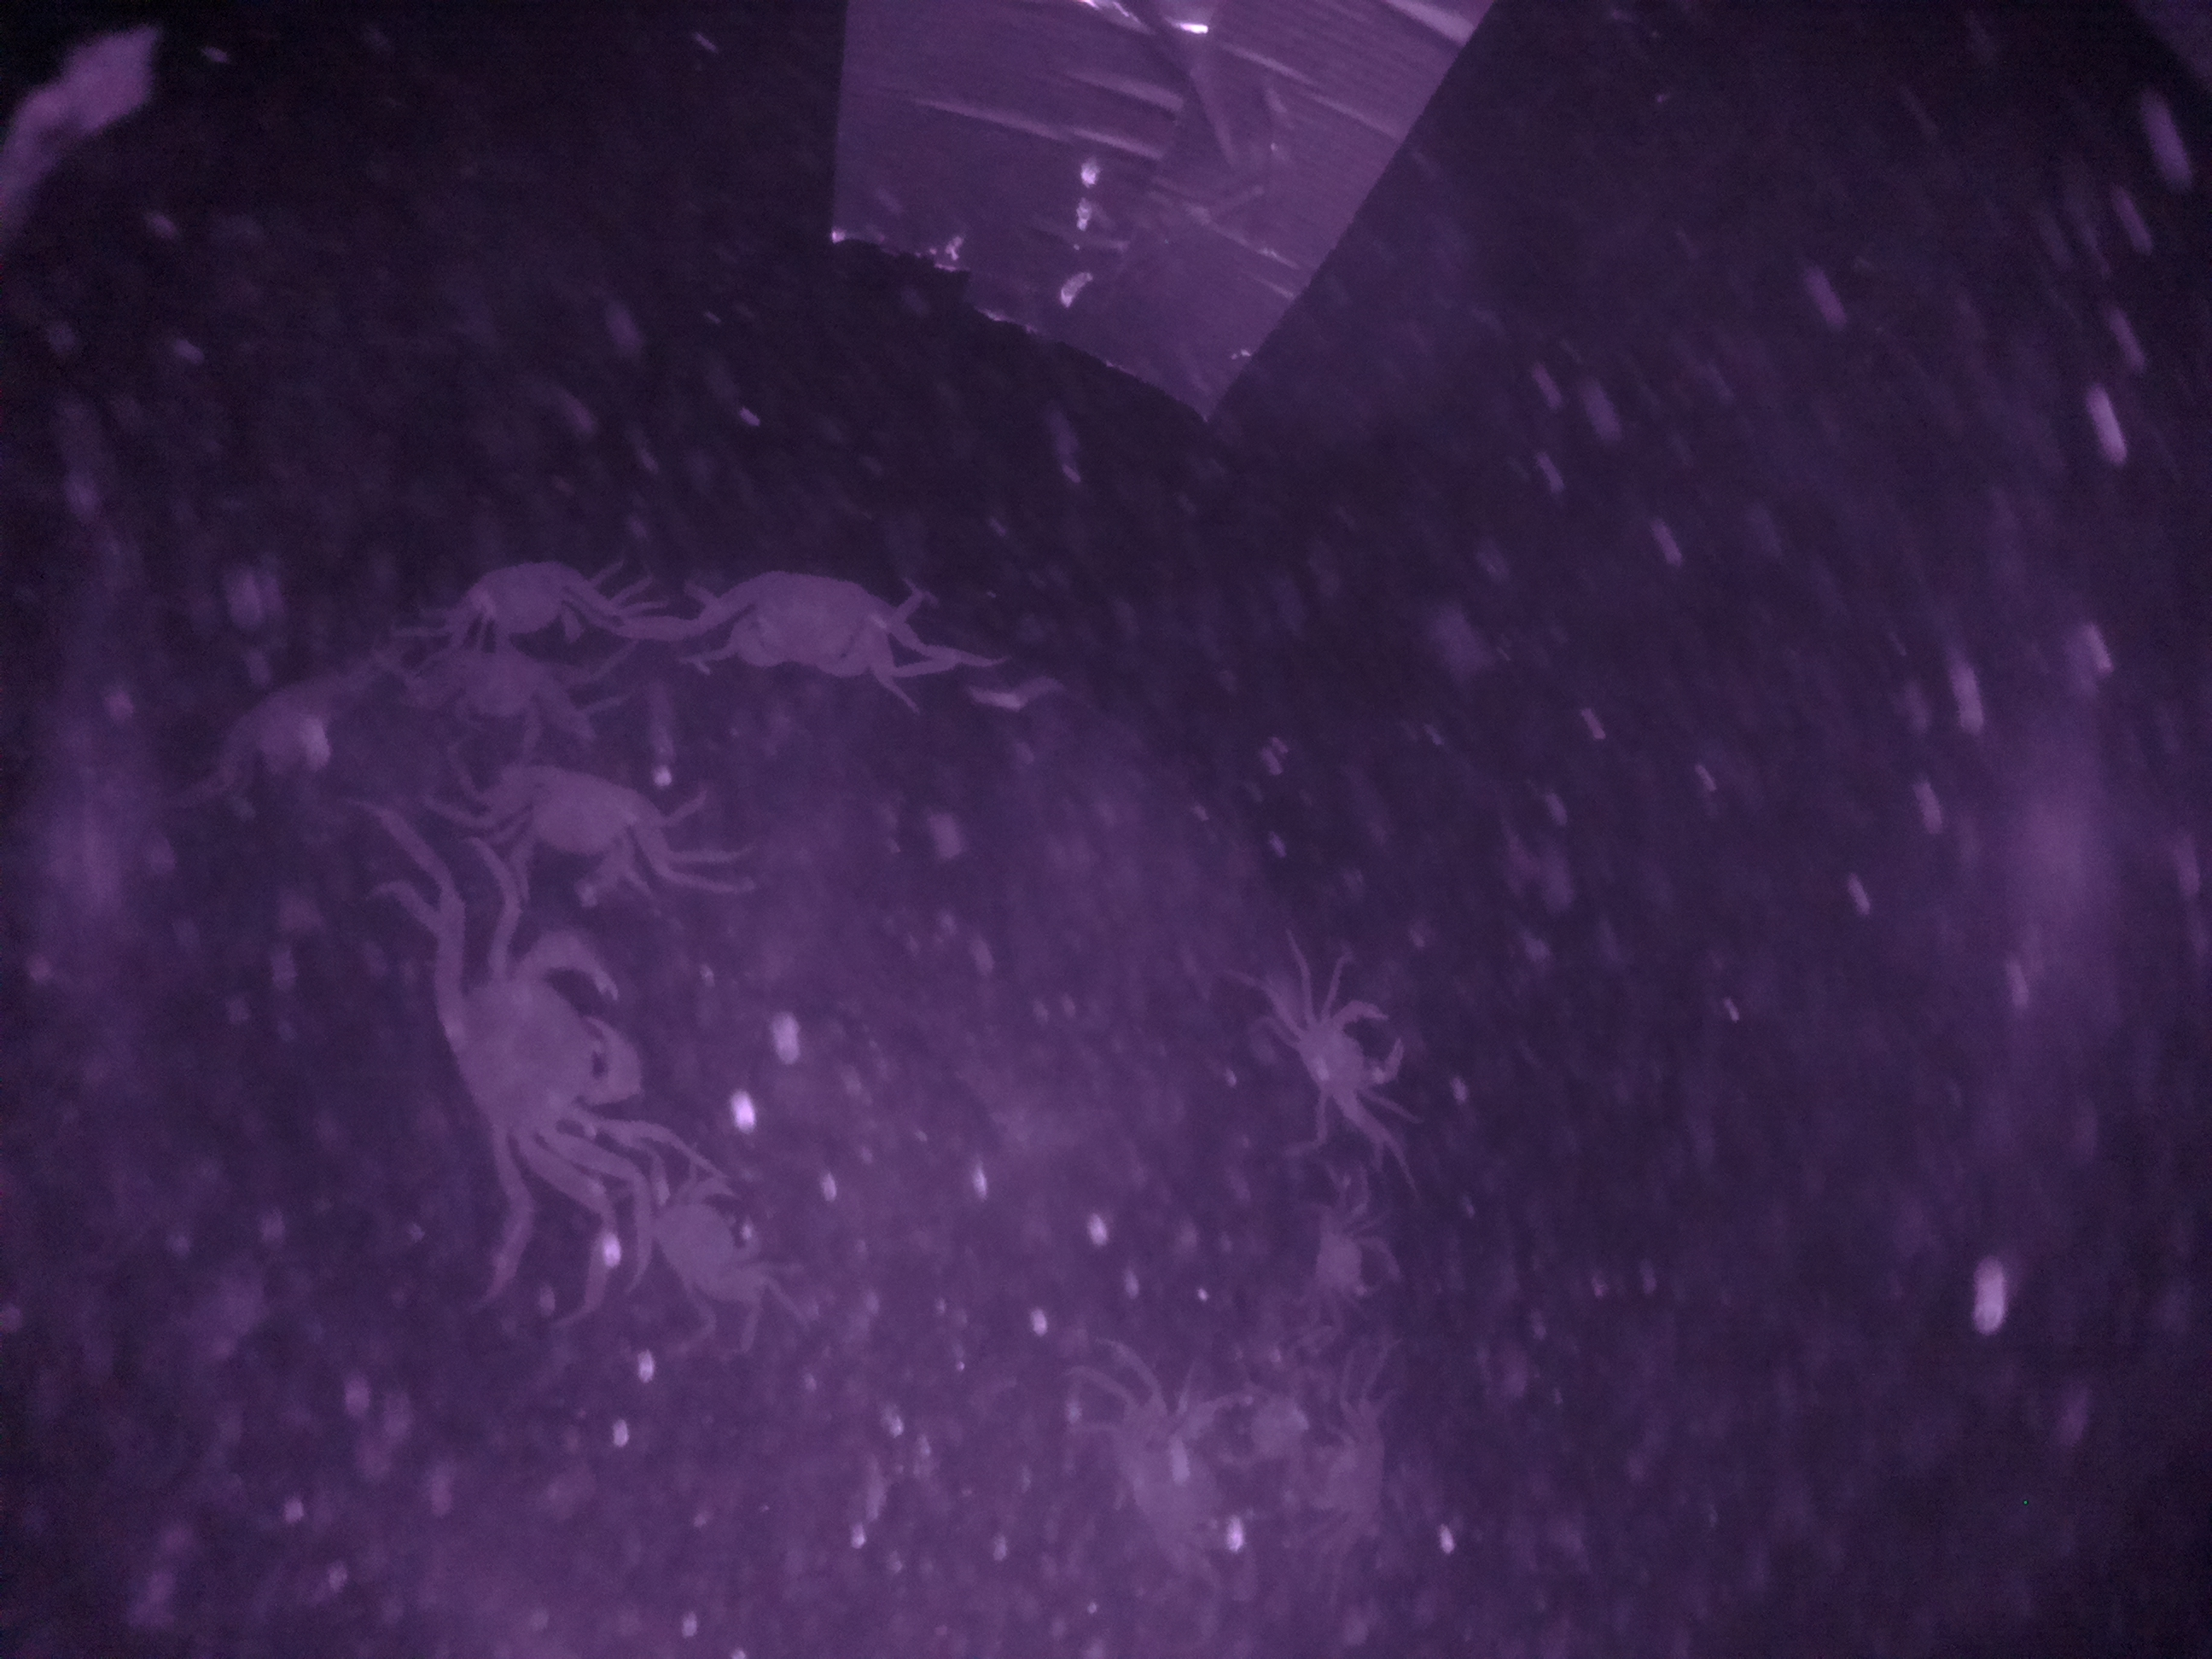Crab: (392, 908, 681, 1157), (693, 538, 949, 701), (458, 741, 709, 903), (427, 547, 643, 674), (1278, 965, 1420, 1154), (636, 1157, 777, 1344)
